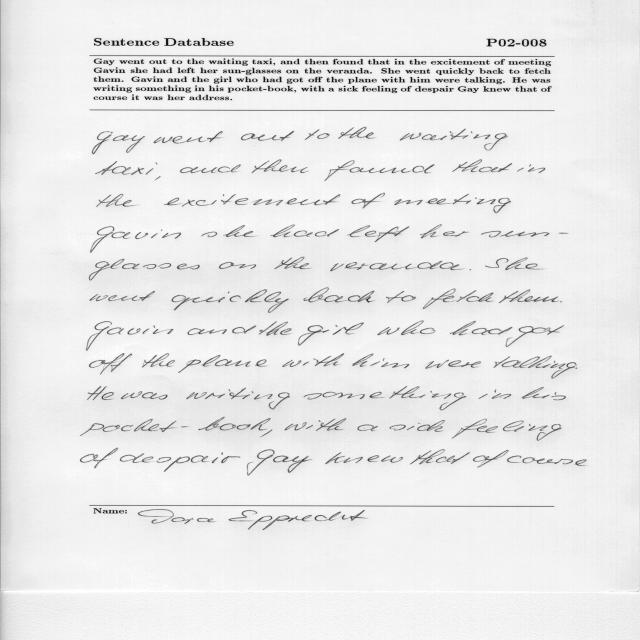word: (304, 386, 466, 410), (80, 417, 271, 436), (172, 289, 289, 313), (87, 321, 174, 351), (91, 226, 181, 253), (90, 259, 200, 281), (120, 452, 240, 472), (452, 419, 561, 441), (400, 129, 508, 151), (325, 160, 435, 181), (164, 194, 340, 207), (186, 388, 290, 410), (394, 194, 511, 213), (494, 356, 577, 379), (247, 450, 312, 476), (178, 355, 267, 373), (298, 323, 364, 346), (423, 289, 494, 309), (330, 261, 463, 271), (506, 325, 564, 347), (92, 131, 145, 154), (303, 288, 375, 303), (347, 226, 409, 243), (325, 452, 403, 464), (90, 353, 132, 375), (410, 449, 470, 464), (450, 321, 512, 335), (282, 353, 344, 367), (353, 354, 410, 369), (96, 161, 157, 175), (499, 289, 559, 303), (154, 131, 223, 143), (377, 321, 436, 335), (271, 225, 339, 237), (285, 418, 347, 431), (507, 456, 587, 466), (453, 160, 513, 173), (485, 257, 544, 270), (81, 448, 118, 468), (252, 160, 308, 173), (188, 325, 257, 335), (390, 420, 445, 432), (90, 291, 155, 301), (473, 450, 509, 468), (420, 225, 469, 238), (202, 225, 254, 237), (521, 387, 566, 400), (241, 131, 294, 141), (481, 231, 568, 237), (351, 193, 385, 208), (97, 194, 136, 207), (425, 360, 481, 369), (142, 353, 175, 368), (180, 165, 241, 173), (259, 321, 291, 336), (339, 127, 376, 139), (274, 257, 311, 269), (121, 391, 167, 400), (87, 386, 114, 400), (386, 291, 416, 303), (479, 389, 511, 399), (305, 129, 330, 140), (219, 262, 256, 269), (518, 164, 546, 173), (357, 425, 378, 431), (261, 430, 273, 437), (155, 176, 160, 180), (576, 367, 578, 369), (560, 302, 562, 303), (470, 269, 471, 270)
